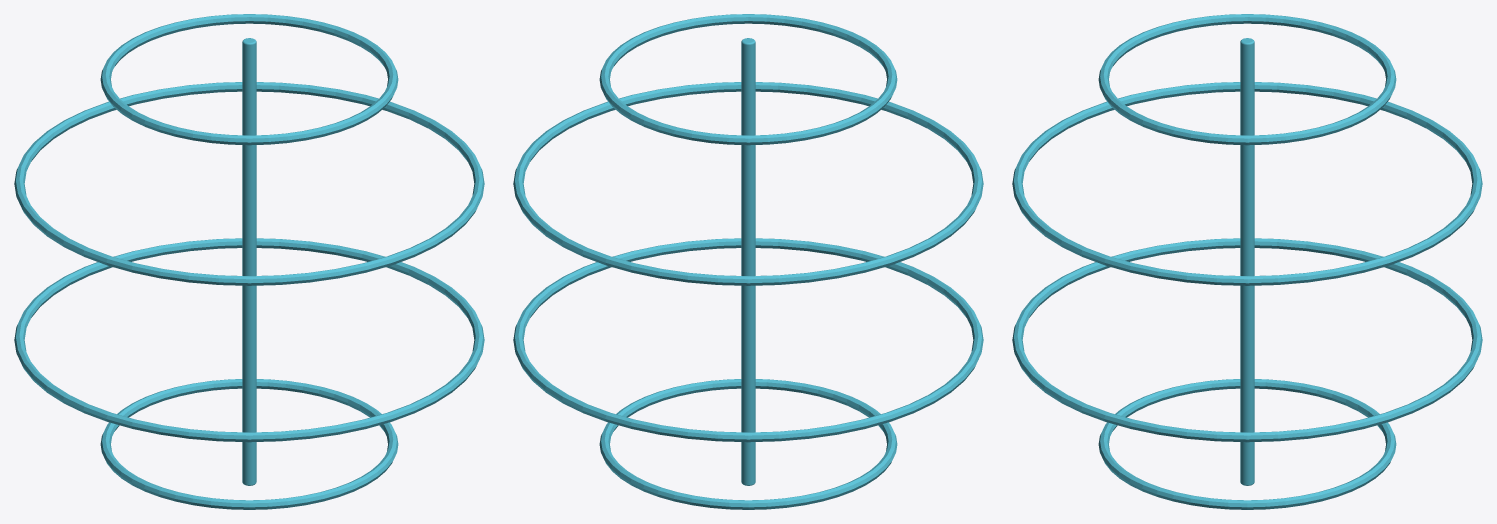
File: hologram.fbx
3 renders of one model, left to right at view 1: azimuth 30°, elevation 25°; view 2: azimuth 150°, elevation 25°; view 3: azimuth 270°, elevation 25°, orthographic.
Parts seen in each view (by area): view 1: hologram; view 2: hologram; view 3: hologram.
Boxes of the visible parts, x1,y1,x2,y2 form: hologram: (14,14,484,509); hologram: (513,14,983,509); hologram: (1012,14,1482,509).
Size of the model in its own units: 164 by 170 by 164.
